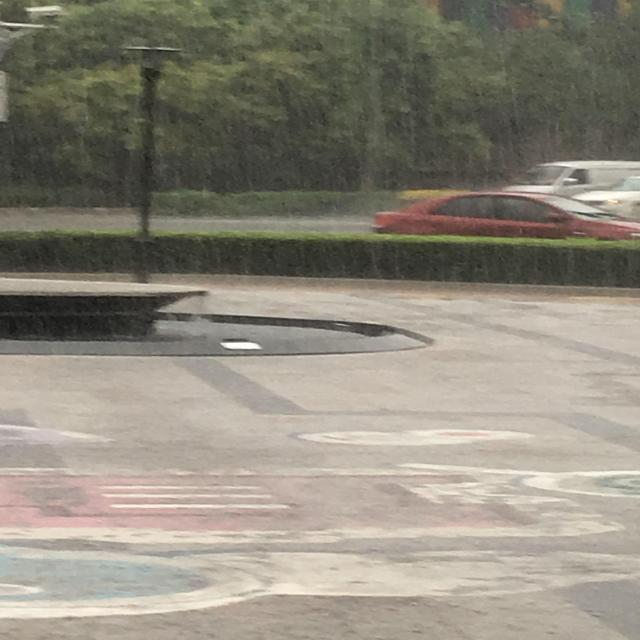car: (375, 192, 640, 245), (500, 160, 638, 193), (572, 174, 640, 224)
